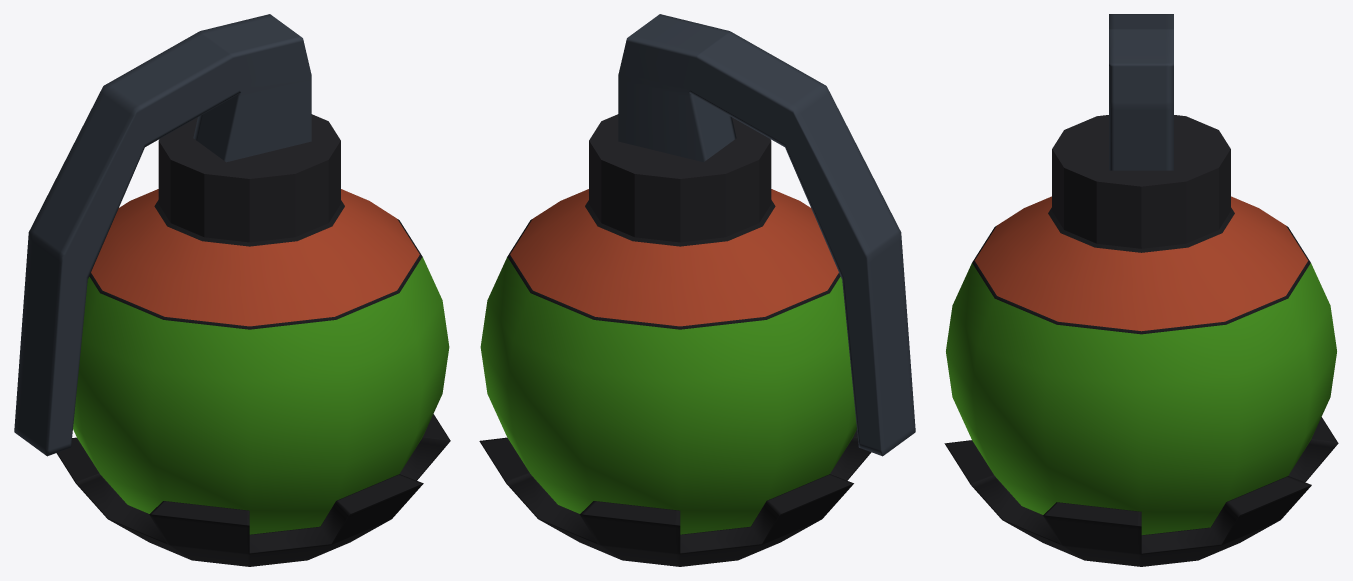
Rendered from SM_pesticideGrenade.fbx.
The picture shows the model from 3 angles, left to right: view 1: azimuth 30°, elevation 25°; view 2: azimuth 150°, elevation 25°; view 3: azimuth 270°, elevation 25°; orthographic projection. The views are drawn at different scales.
Visible parts, largest first — view 1: SM_pesticideGrenade; view 2: SM_pesticideGrenade; view 3: SM_pesticideGrenade.
Part boxes in pixels (left/top/right/bottom): SM_pesticideGrenade: left=14, top=14, right=450, bottom=566; SM_pesticideGrenade: left=479, top=14, right=915, bottom=566; SM_pesticideGrenade: left=944, top=14, right=1338, bottom=566.
Size of the model in its own units: 13.52 by 16.8 by 11.98.
